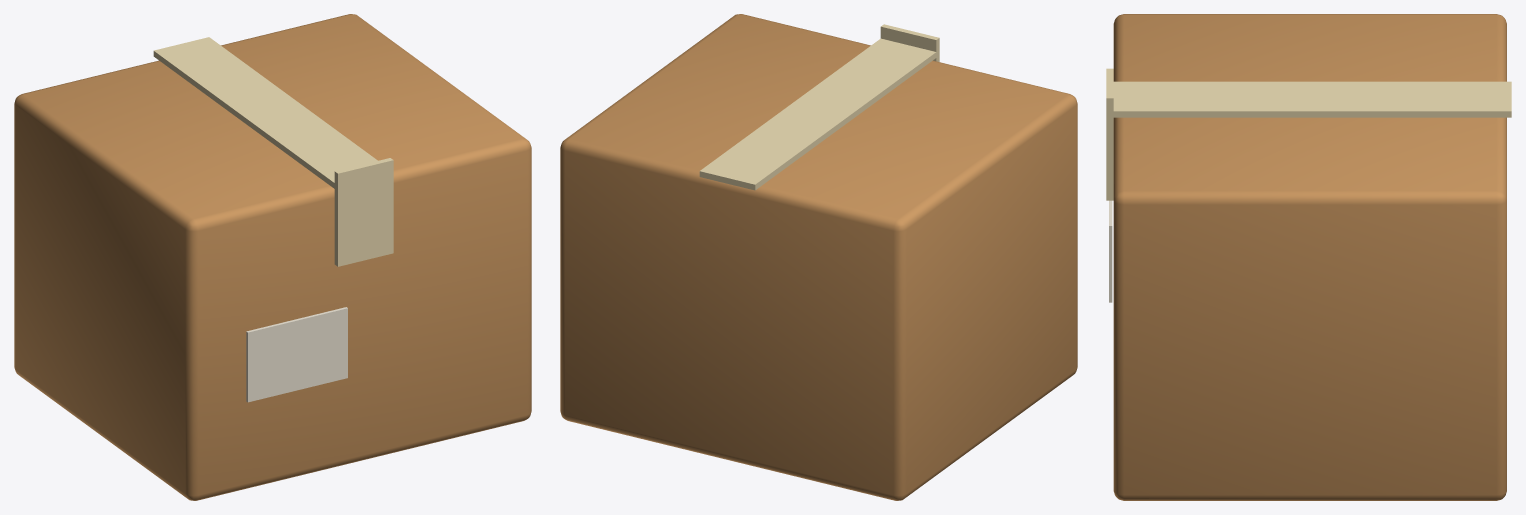
The picture shows the model from 3 angles, left to right: view 1: azimuth 30°, elevation 25°; view 2: azimuth 150°, elevation 25°; view 3: azimuth 270°, elevation 25°; orthographic projection. The views are drawn at different scales.
Parts seen in each view (by area): view 1: body.022, tape.001, label.002, tapeF.001; view 2: body.022, tape.001, tapeF.001; view 3: body.022, tape.001, tapeF.001.
Part boxes in pixels (x1,y1,x2,y2): body.022: (14,14,531,500); tape.001: (153,37,377,189); label.002: (246,307,347,402); tapeF.001: (334,158,393,266); body.022: (560,14,1077,500); tape.001: (699,38,938,190); tapeF.001: (880,24,939,61); body.022: (1113,14,1506,500); tape.001: (1109,81,1511,117); tapeF.001: (1106,68,1113,200).
Size of the model in its own units: 0.62 by 0.514 by 0.5742.
